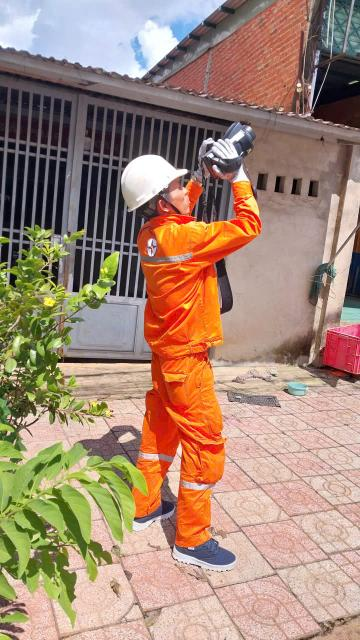gloves: (205, 146, 248, 181), (189, 136, 222, 178)
helmet: (89, 133, 172, 209)
shoes: (118, 476, 178, 538), (169, 525, 239, 578)
